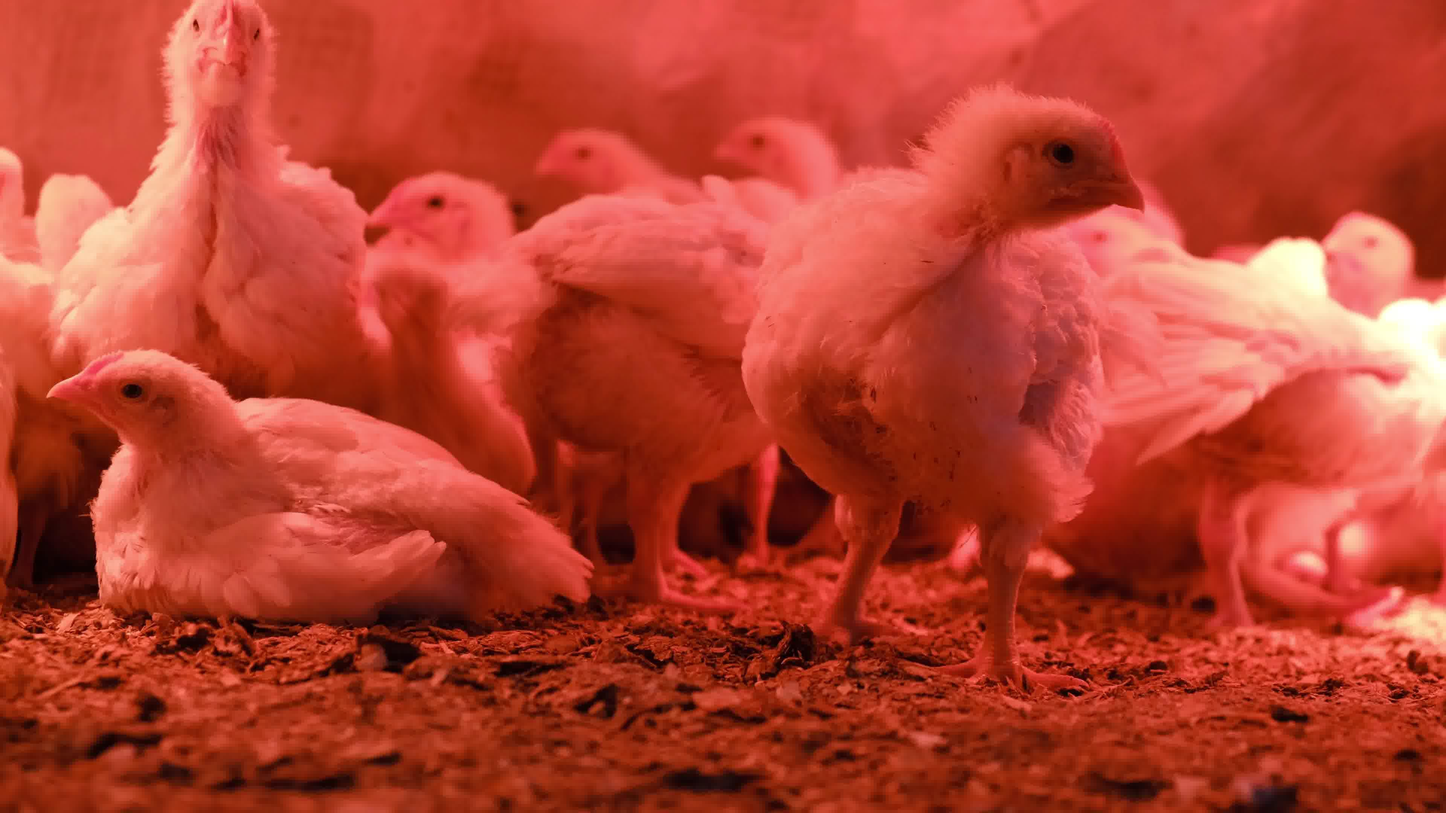AbNormal: (24, 352, 591, 619)
Normal: (759, 96, 1171, 706), (518, 115, 823, 608), (1120, 265, 1446, 629), (72, 0, 380, 369), (345, 241, 535, 474), (337, 145, 559, 282), (1284, 213, 1423, 341)
